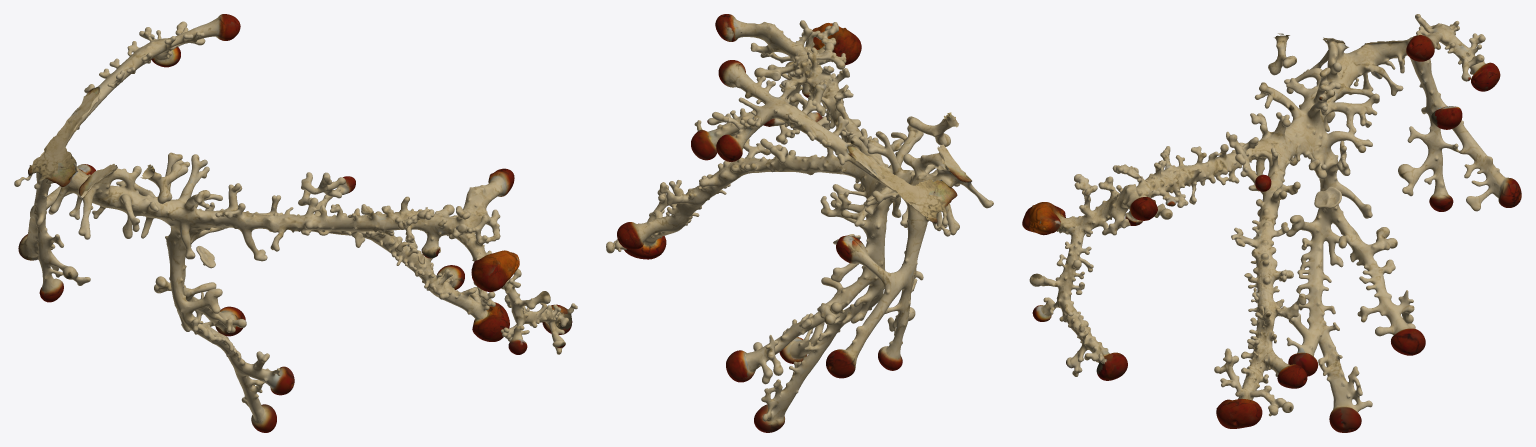
Rendered from Stereocaulon.glb.
3 views of the same model, side by side, from view 1: azimuth 30°, elevation 25°; view 2: azimuth 150°, elevation 25°; view 3: azimuth 270°, elevation 25° (orthographic). The views are drawn at different scales.
Visible parts, largest first — view 1: tripo_node_fd528f15-8dc5-4335-b8b4-4714bc231195; view 2: tripo_node_fd528f15-8dc5-4335-b8b4-4714bc231195; view 3: tripo_node_fd528f15-8dc5-4335-b8b4-4714bc231195.
Part boxes in pixels (<box>): tripo_node_fd528f15-8dc5-4335-b8b4-4714bc231195: <box>14,14,577,432</box>; tripo_node_fd528f15-8dc5-4335-b8b4-4714bc231195: <box>606,14,993,432</box>; tripo_node_fd528f15-8dc5-4335-b8b4-4714bc231195: <box>1022,14,1521,432</box>.
Bounding box in the file's own units: 0.9351 × 0.855 × 0.9797.
Materials: 1 (1 with a texture image).
